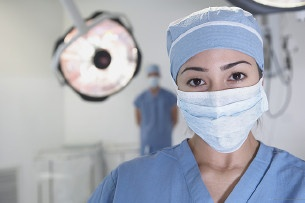Mask: (176, 59, 270, 154)
